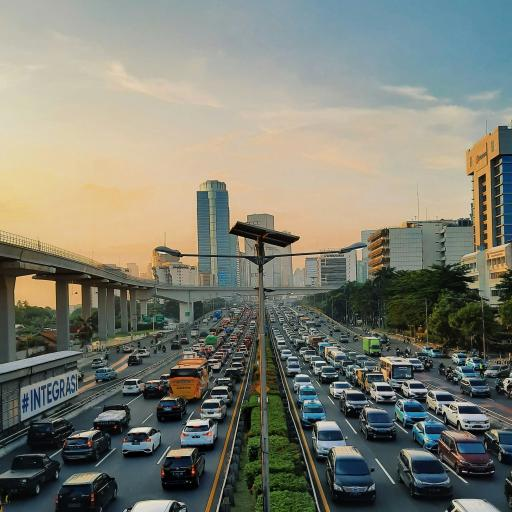bike: (495, 382, 504, 395), (424, 360, 433, 371), (438, 367, 446, 376), (386, 344, 392, 352), (162, 346, 166, 352), (154, 347, 157, 353), (138, 341, 141, 347), (158, 345, 161, 349), (117, 346, 119, 352)
car: (326, 446, 375, 501), (398, 449, 452, 497), (0, 454, 60, 497), (438, 430, 494, 475), (56, 473, 117, 511), (162, 448, 205, 488), (61, 430, 111, 462), (27, 418, 74, 448), (442, 402, 489, 430), (312, 421, 347, 458), (360, 406, 396, 439), (122, 427, 161, 455), (180, 419, 217, 448), (413, 419, 446, 450), (94, 405, 130, 432), (395, 399, 428, 427), (484, 430, 511, 462), (124, 499, 187, 511), (299, 399, 326, 426), (340, 390, 368, 415), (426, 390, 455, 414), (157, 397, 186, 421), (446, 499, 499, 511), (200, 399, 227, 421), (459, 378, 490, 397), (402, 380, 428, 400), (370, 383, 396, 402), (210, 386, 233, 406), (143, 380, 168, 398), (297, 386, 317, 405), (292, 374, 312, 392), (330, 382, 352, 398), (485, 365, 511, 378), (122, 379, 143, 395), (319, 366, 338, 383), (95, 367, 116, 382), (216, 378, 235, 393), (454, 367, 477, 379), (466, 357, 487, 370), (224, 368, 242, 383), (348, 367, 361, 385), (300, 348, 316, 362), (345, 365, 361, 379), (408, 358, 424, 371), (313, 361, 327, 375), (355, 354, 371, 366), (287, 362, 300, 376), (452, 353, 467, 365), (208, 358, 221, 371), (127, 354, 142, 365), (427, 348, 443, 358), (361, 361, 377, 371), (230, 354, 244, 365), (231, 363, 244, 374), (92, 358, 107, 367), (281, 349, 291, 360), (183, 348, 195, 357), (422, 345, 433, 354), (138, 349, 150, 357), (122, 344, 133, 352), (287, 356, 299, 363), (77, 368, 84, 380), (171, 340, 180, 349), (159, 374, 169, 382), (340, 335, 350, 343), (333, 326, 341, 333)
